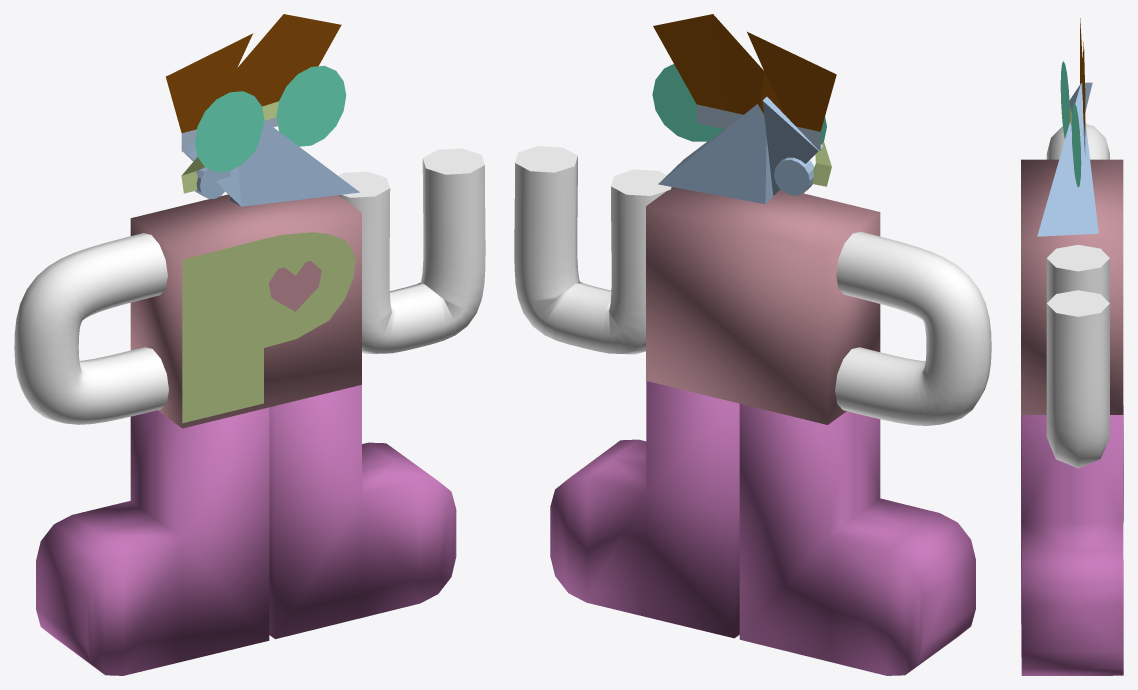
The model's file is Eddie.fbx.
3 views of the same model, side by side, from view 1: azimuth 30°, elevation 25°; view 2: azimuth 150°, elevation 25°; view 3: azimuth 270°, elevation 25° (orthographic). The views are drawn at different scales.
Parts seen in each view (by area): view 1: EmotionEddie.002, EmotionEddie.010, EmotionEddie.003, BezierCircle.001, BezierCircle; view 2: EmotionEddie.002, EmotionEddie.010, EmotionEddie.003, BezierCircle.001, BezierCircle; view 3: EmotionEddie.002, BezierCircle, EmotionEddie.010, EmotionEddie.003, BezierCircle.001.
Boxes of the visible parts, x1,y1,x2,y2 form: EmotionEddie.002: [36, 385, 456, 675]; EmotionEddie.010: [130, 194, 361, 428]; EmotionEddie.003: [166, 14, 359, 206]; BezierCircle.001: [14, 233, 168, 424]; BezierCircle: [338, 148, 485, 354]; EmotionEddie.002: [550, 381, 975, 675]; EmotionEddie.010: [646, 187, 880, 424]; EmotionEddie.003: [652, 14, 836, 203]; BezierCircle.001: [835, 231, 991, 425]; BezierCircle: [514, 146, 671, 354]; EmotionEddie.002: [1021, 405, 1123, 675]; BezierCircle: [1046, 244, 1109, 468]; EmotionEddie.010: [1021, 159, 1123, 414]; EmotionEddie.003: [1037, 18, 1098, 236]; BezierCircle.001: [1046, 124, 1109, 159].
Bounding box in the file's own units: 106 × 130 × 20.86.
